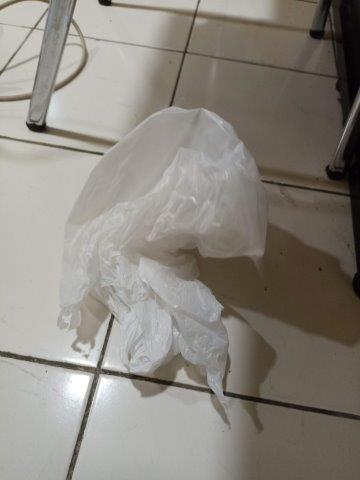plastik: (57, 107, 268, 407)
